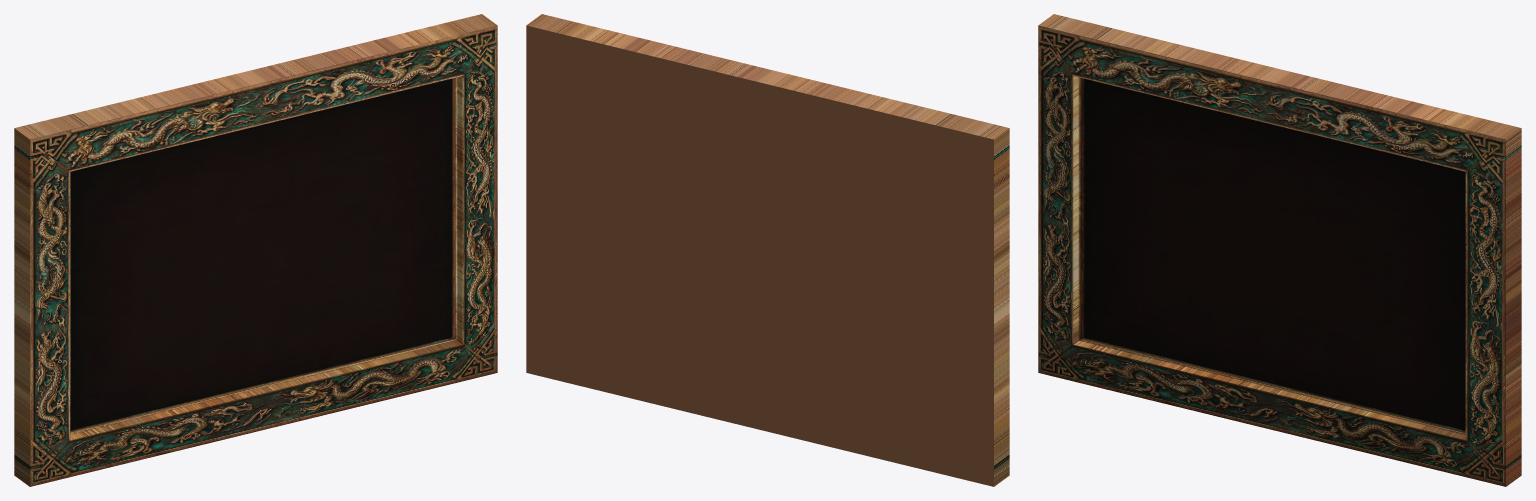
Rendered from panel_card.glb.
3 views of the same model, side by side, from view 1: azimuth 30°, elevation 25°; view 2: azimuth 150°, elevation 25°; view 3: azimuth 330°, elevation 25° (orthographic).
Visible parts, largest first — view 1: panel_card; view 2: panel_card; view 3: panel_card.
Part boxes in pixels (x1,y1,x2,y2): panel_card: (14,14,497,486); panel_card: (526,14,1009,486); panel_card: (1038,14,1521,486).
Bounding box in the file's own units: 0.62 × 0.44 × 0.042.
Materials: 1 (1 with a texture image).
